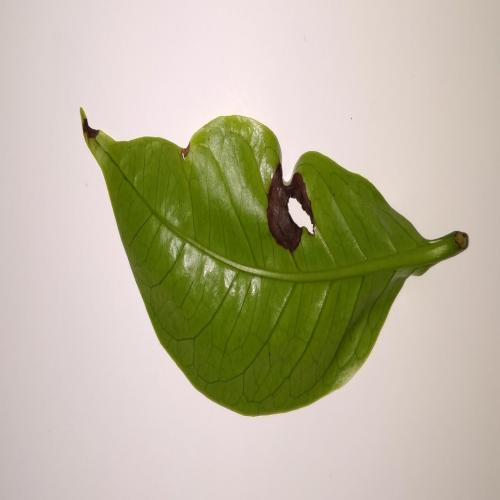miner: (83, 119, 98, 138)
